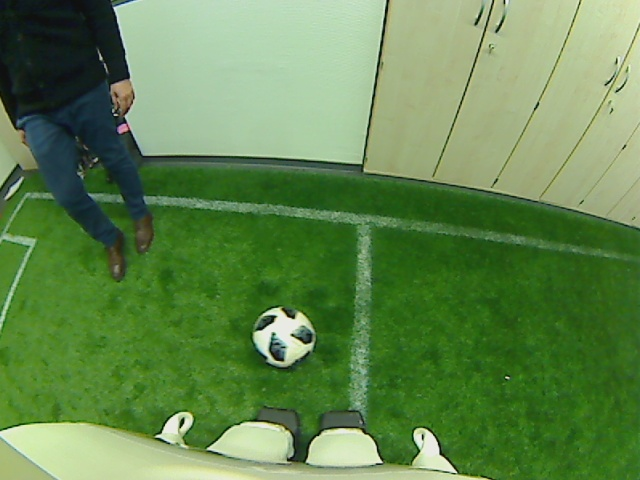ball: (250, 305, 317, 370)
